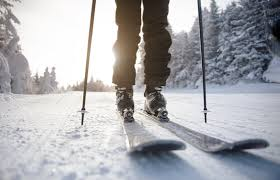skis: (119, 106, 269, 159)
